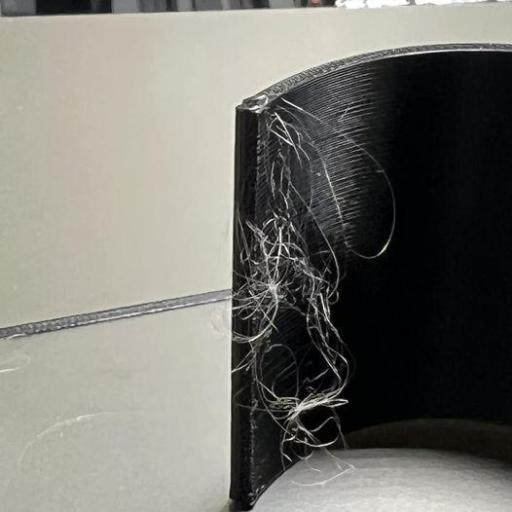stringing: (251, 126, 340, 460)
